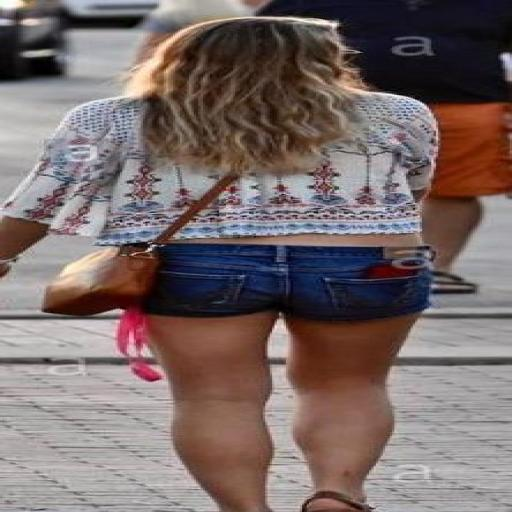person: (0, 17, 435, 511), (261, 0, 511, 293), (139, 0, 262, 61)
